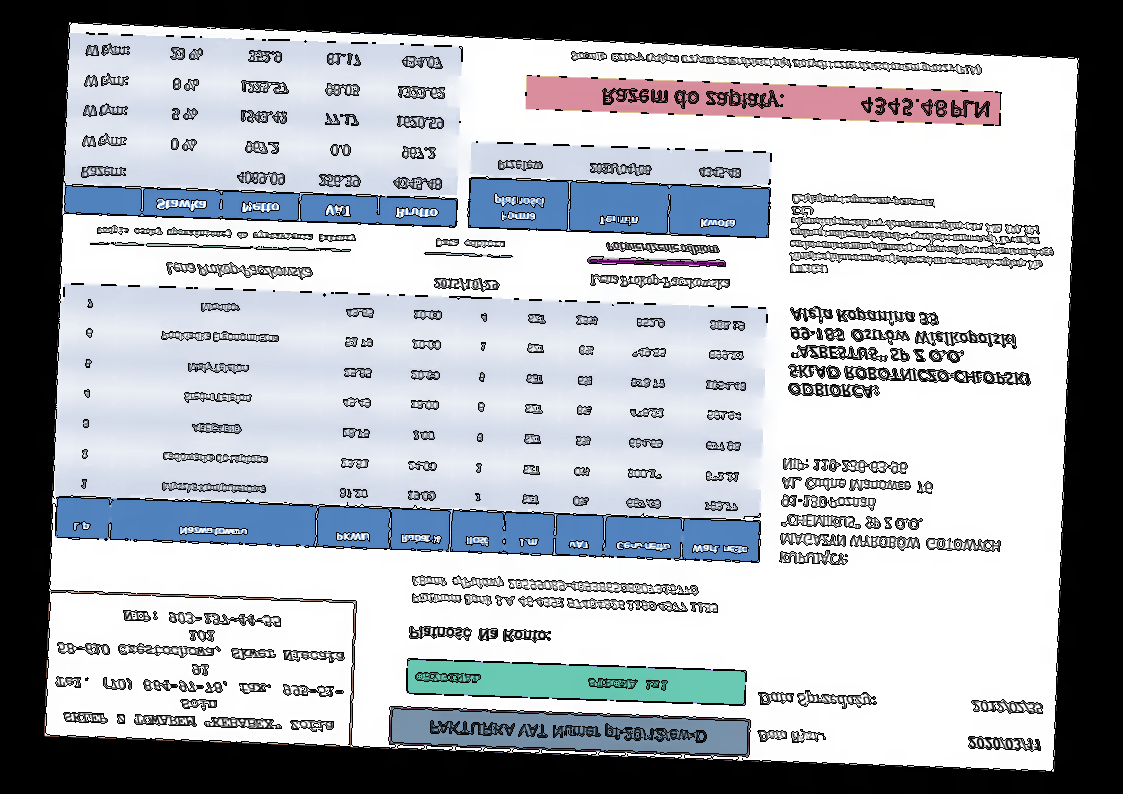Table: (53, 281, 770, 563), (63, 30, 464, 229), (467, 141, 773, 239)
TextBox: (50, 607, 349, 734), (777, 455, 1006, 575), (787, 191, 1059, 285), (786, 304, 1034, 406), (601, 83, 991, 121), (408, 573, 721, 617), (569, 49, 984, 78), (427, 716, 711, 748), (414, 669, 671, 693), (94, 224, 358, 245), (164, 259, 314, 282), (408, 623, 554, 646), (587, 272, 730, 294), (756, 688, 879, 711), (604, 240, 719, 258), (967, 734, 1043, 753), (756, 727, 827, 747), (970, 698, 1044, 716), (432, 275, 500, 294), (434, 236, 506, 252)
